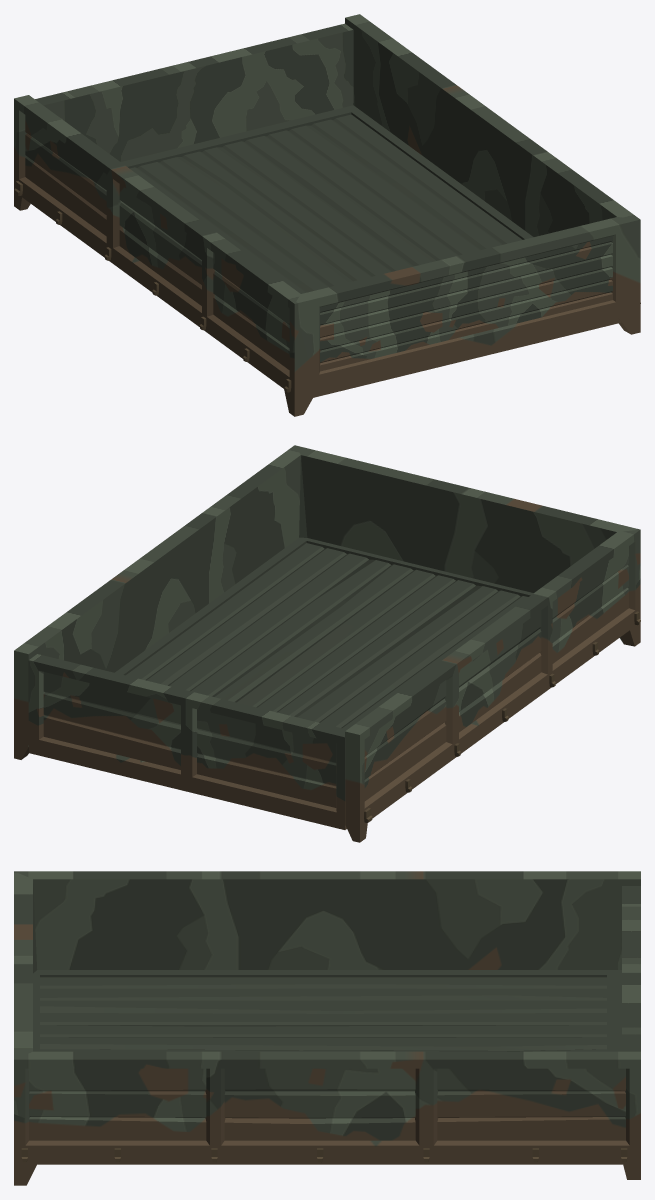
The model's file is SM_Veh_Truck_01_Tray.fbx.
The picture shows the model from 3 angles, top to bottom: view 1: azimuth 30°, elevation 25°; view 2: azimuth 150°, elevation 25°; view 3: azimuth 270°, elevation 25°; orthographic projection. The views are drawn at different scales.
Visible parts, largest first — view 1: SM_Veh_Truck_01_Tray; view 2: SM_Veh_Truck_01_Tray; view 3: SM_Veh_Truck_01_Tray.
Boxes of the visible parts, bbox=[...] form: SM_Veh_Truck_01_Tray: bbox=[14, 14, 640, 416]; SM_Veh_Truck_01_Tray: bbox=[14, 445, 640, 842]; SM_Veh_Truck_01_Tray: bbox=[14, 871, 640, 1185].
Size of the model in its own units: 277 by 84.29 by 380.
